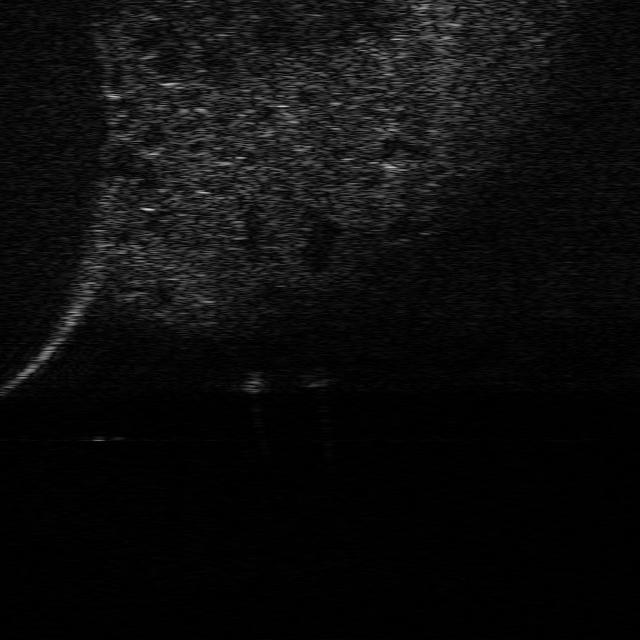cube: (296, 366, 334, 388)
cylinder: (236, 368, 266, 395)
